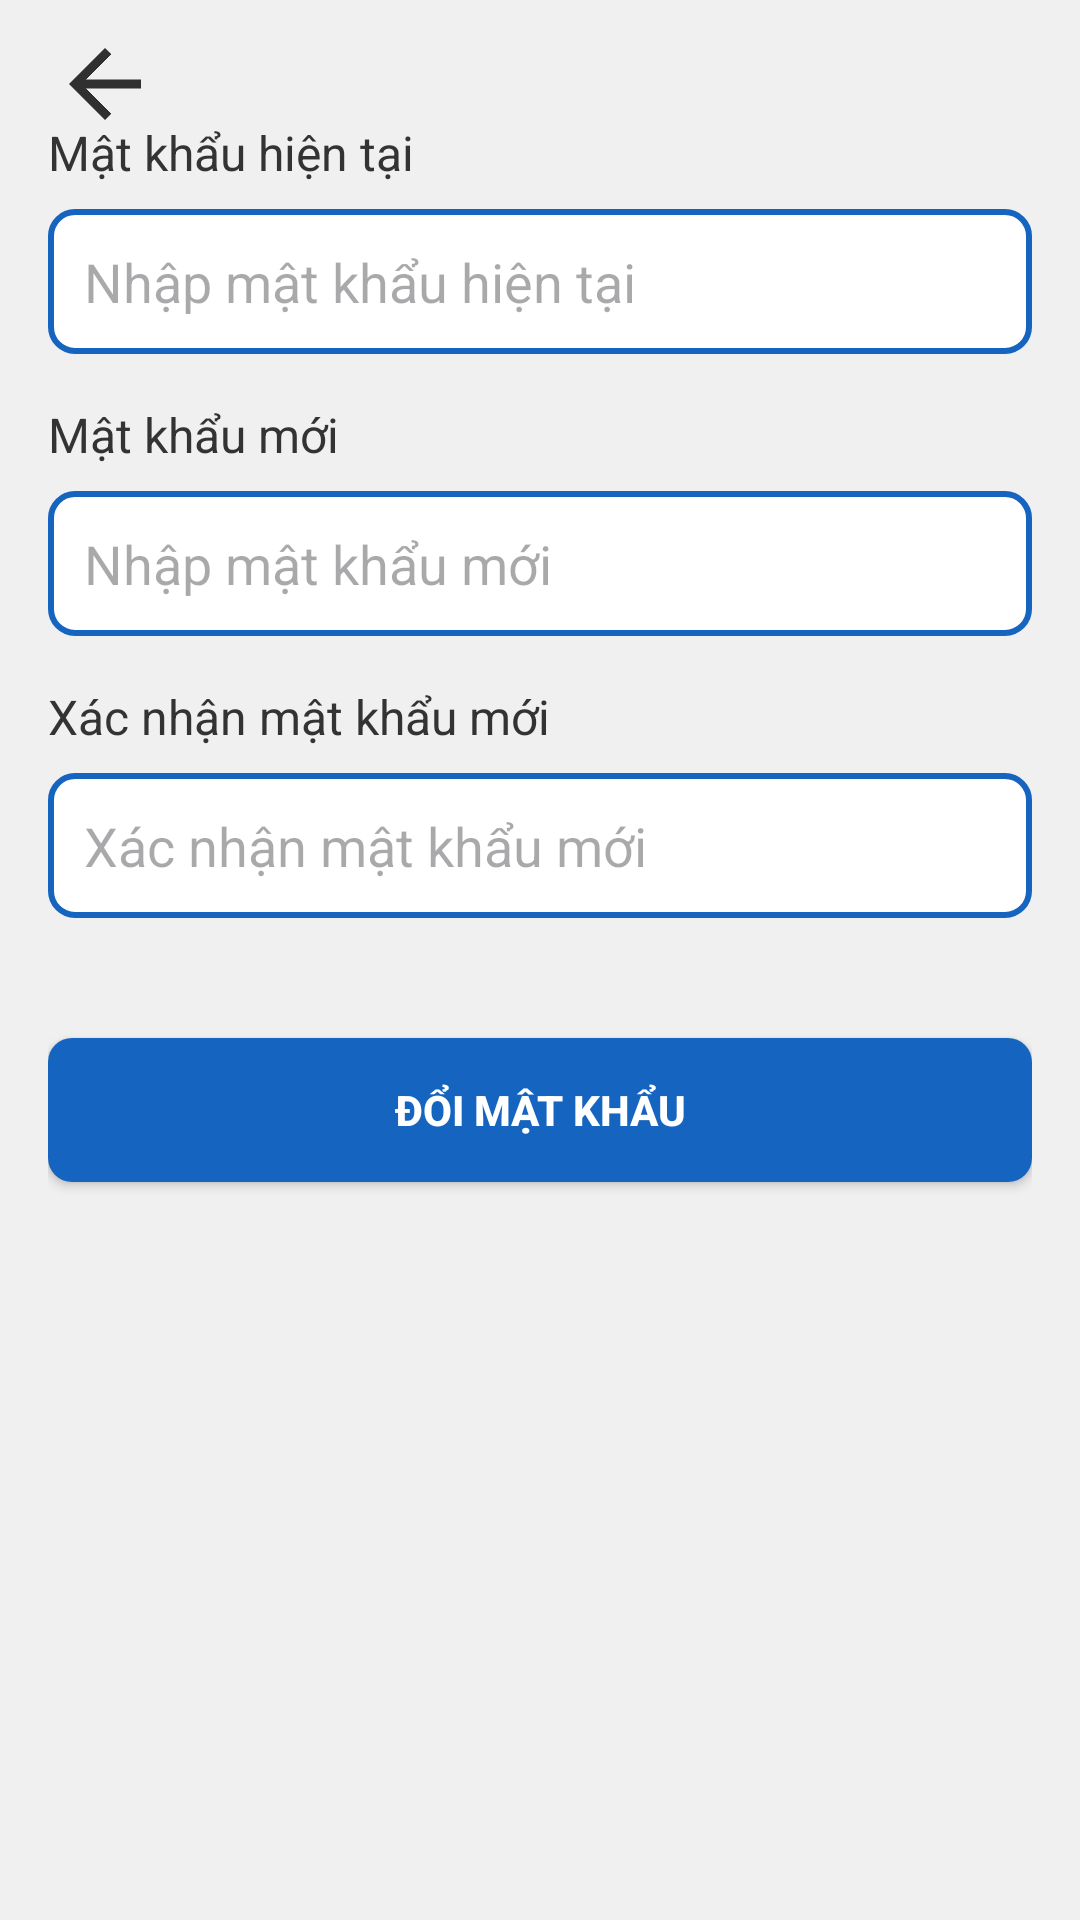

Point at icon controls on the screen. Image size 1080 × 1920, points as (x,y).
arrowback: (105,84)
